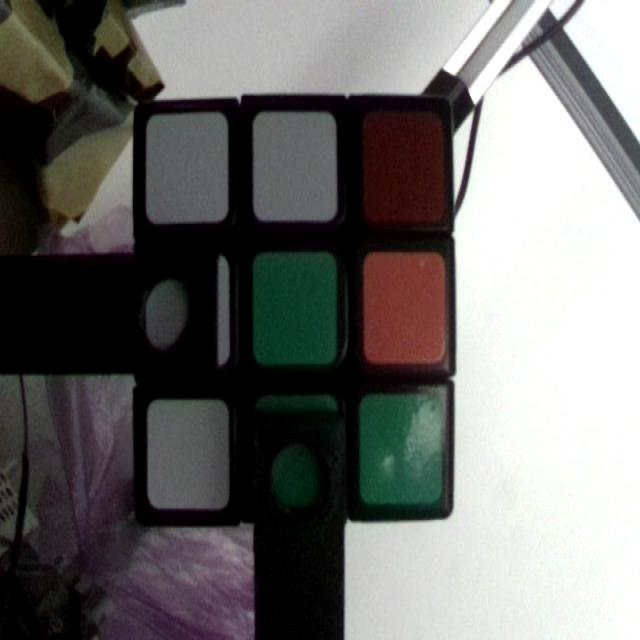g: (255, 253, 337, 365), (362, 396, 442, 506), (260, 397, 336, 505)
o: (365, 256, 447, 367)
r: (364, 110, 446, 222)
w: (142, 255, 228, 368), (256, 110, 339, 223), (147, 399, 231, 507), (144, 116, 228, 222)
